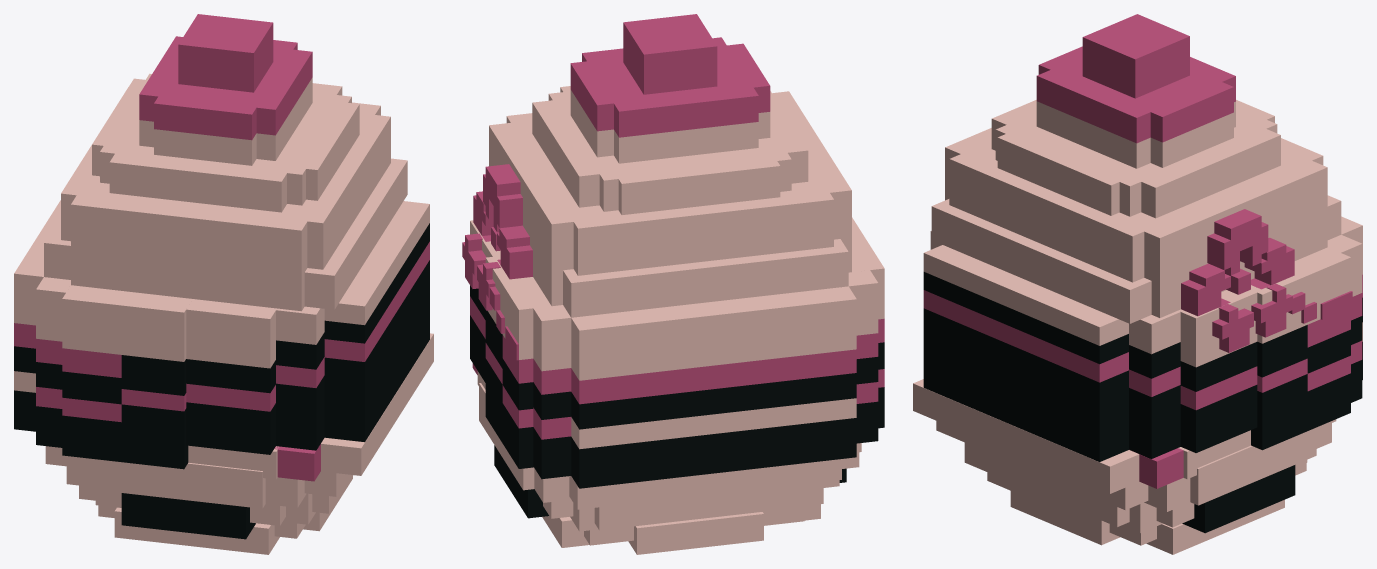
The model's file is egg_z04_02.glb.
3 views of the same model, side by side, from view 1: azimuth 30°, elevation 25°; view 2: azimuth 150°, elevation 25°; view 3: azimuth 270°, elevation 25° (orthographic). The views are drawn at different scales.
Visible parts, largest first — view 1: egg057; view 2: egg057; view 3: egg057.
Boxes of the visible parts, x1,y1,x2,y2 form: egg057: (14,14,433,554); egg057: (462,14,884,554); egg057: (913,14,1362,554).
Size of the model in its own units: 3.58 by 4 by 3.58.
Materials: 1 (1 with a texture image).
